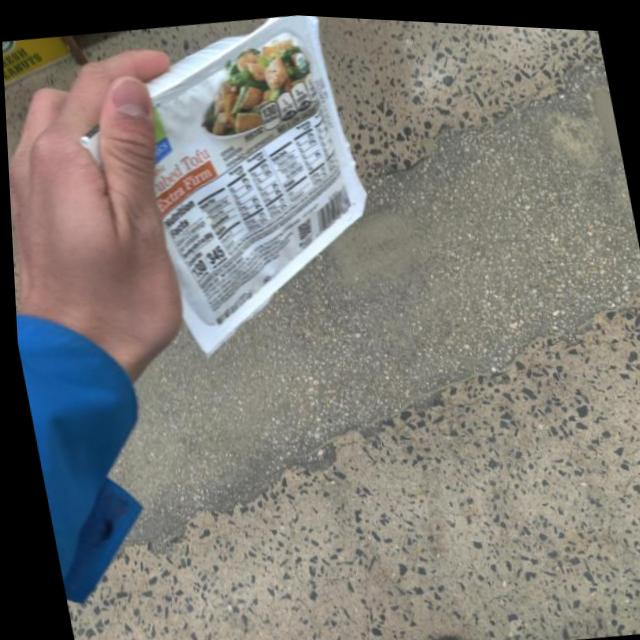Tofu: (39, 2, 430, 371)
